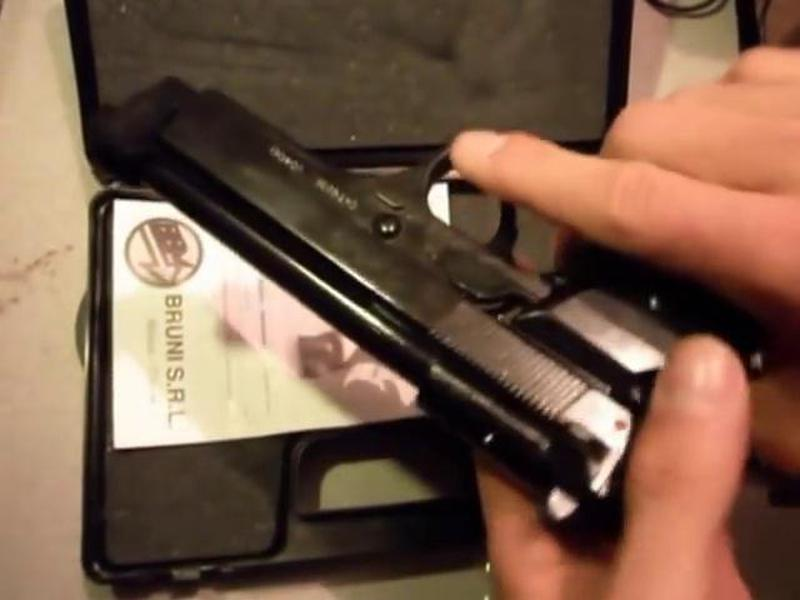Pistola: (104, 44, 792, 517)
